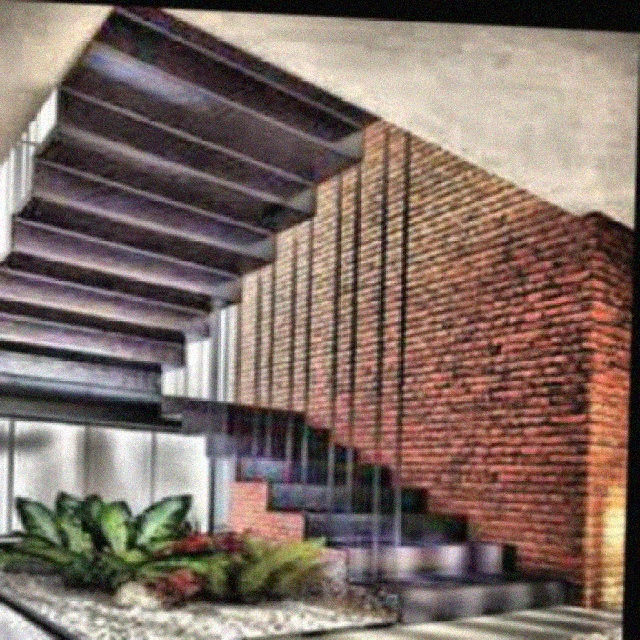stair: (177, 385, 600, 634)
